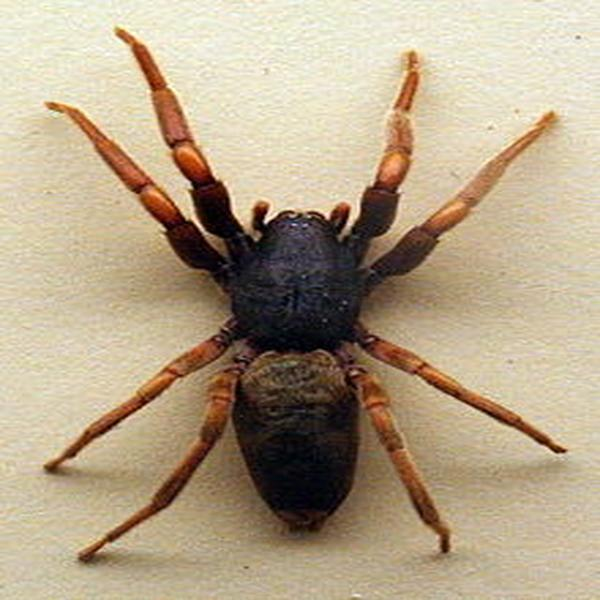White-Tailed Spider: (62, 41, 561, 551)
